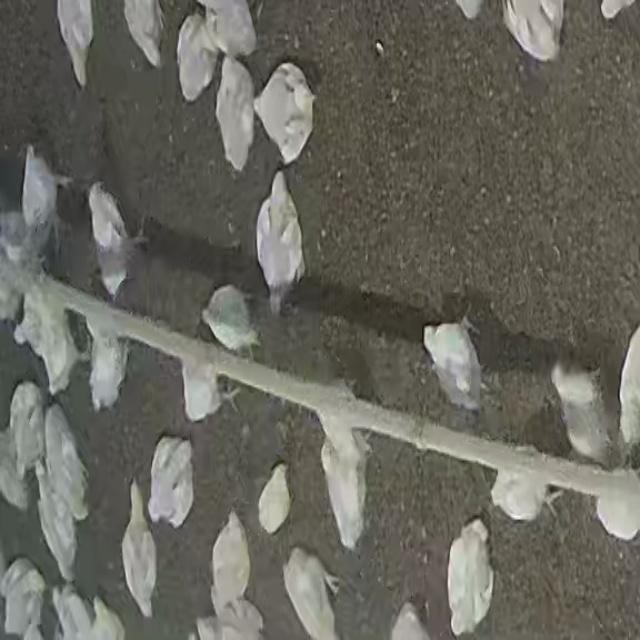chicken: (18, 281, 82, 397), (255, 173, 308, 309), (87, 184, 143, 302), (253, 62, 318, 163), (552, 362, 612, 464), (422, 318, 485, 414), (445, 518, 494, 636), (320, 442, 370, 556), (43, 405, 90, 522), (282, 548, 342, 638), (20, 147, 72, 246), (489, 452, 560, 524), (121, 486, 158, 618), (215, 55, 253, 175), (147, 435, 195, 529), (201, 283, 261, 358), (36, 481, 80, 583), (210, 514, 252, 615), (7, 382, 47, 487), (87, 320, 129, 412), (1, 557, 48, 636), (195, 2, 258, 59), (177, 17, 217, 104), (55, 1, 95, 88), (593, 469, 640, 541), (504, 0, 560, 60), (181, 357, 225, 428), (122, 1, 166, 69), (50, 579, 94, 640), (256, 463, 290, 536), (88, 596, 126, 640)
